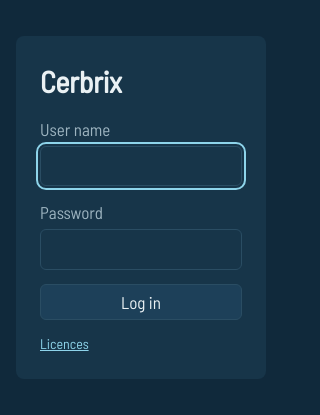
Scenario: LoginPage › shows the message of the server for 401 and empties the password
In the field labelled "User name": (141, 166) [40,146,242,186], type "anna"
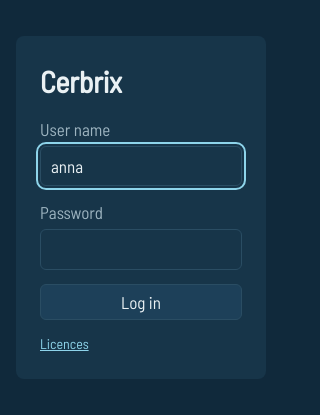
In the password field labelled "Password": (141, 249) [40,229,242,270], type "secret-password"
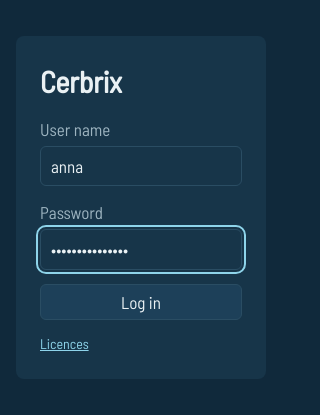
Click the button "Log in": (141, 302) [40,284,242,320]
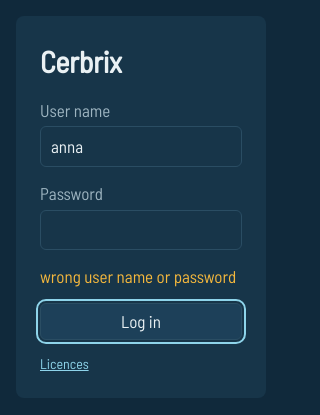
Check: the text "wrong user name or password" is shown, box [40,264,242,289]
Check: the password field labelled "Password" is empty, box [40,210,242,250]
